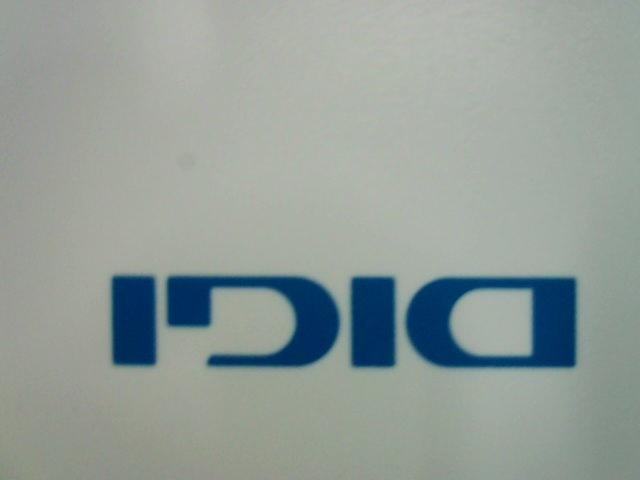BL_DIGI: (78, 246, 587, 379)
